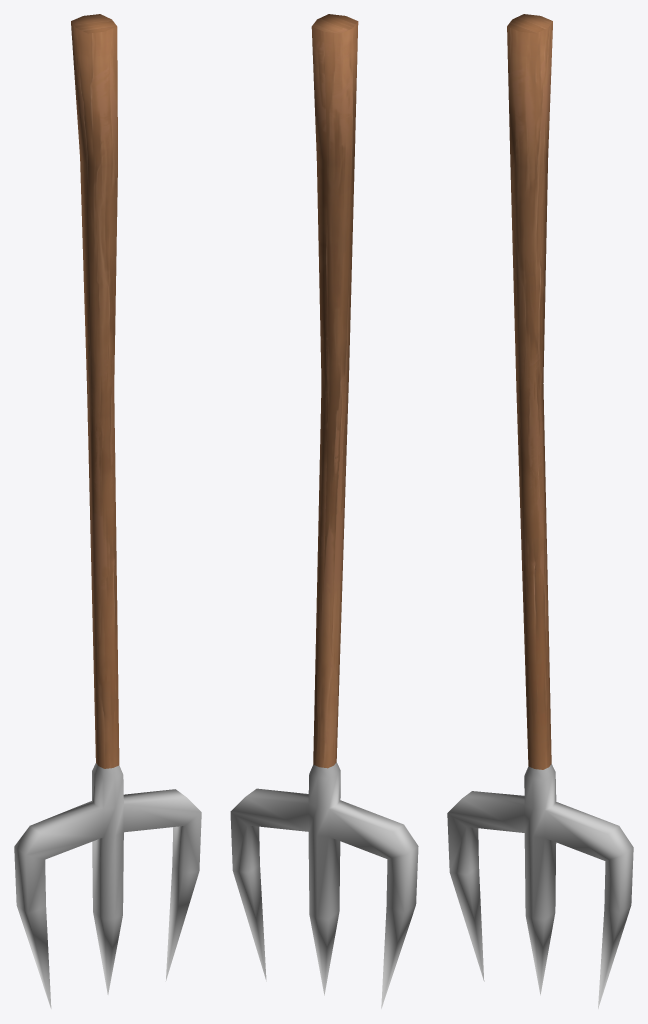
The model's file is Pitchfork.fbx.
The picture shows the model from 3 angles, left to right: view 1: azimuth 30°, elevation 25°; view 2: azimuth 150°, elevation 25°; view 3: azimuth 330°, elevation 25°; orthographic projection.
Visible parts, largest first — view 1: Pitchfork; view 2: Pitchfork; view 3: Pitchfork.
Boxes of the visible parts, x1=… form: Pitchfork: x1=14, y1=14, x2=201, y2=1008; Pitchfork: x1=230, y1=14, x2=418, y2=1008; Pitchfork: x1=447, y1=14, x2=633, y2=1008.
Bounding box in the file's own units: 0.3102 × 1.64 × 0.0688.
